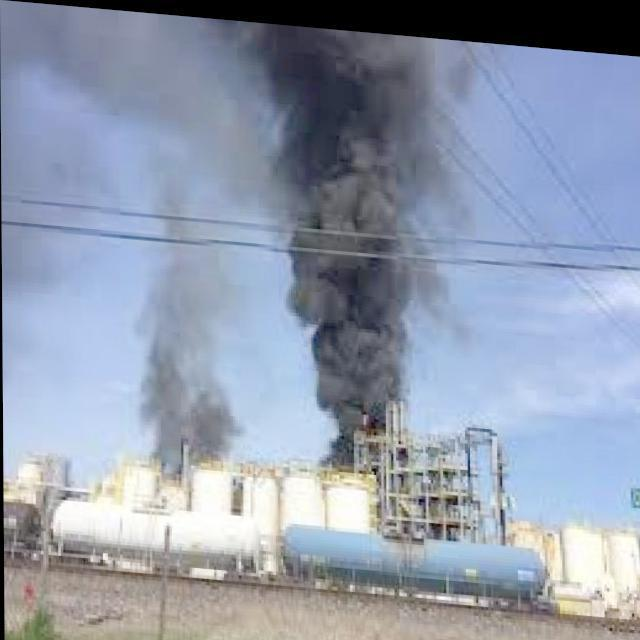Smoke: (0, 0, 284, 378), (257, 18, 493, 471), (126, 189, 249, 471)
